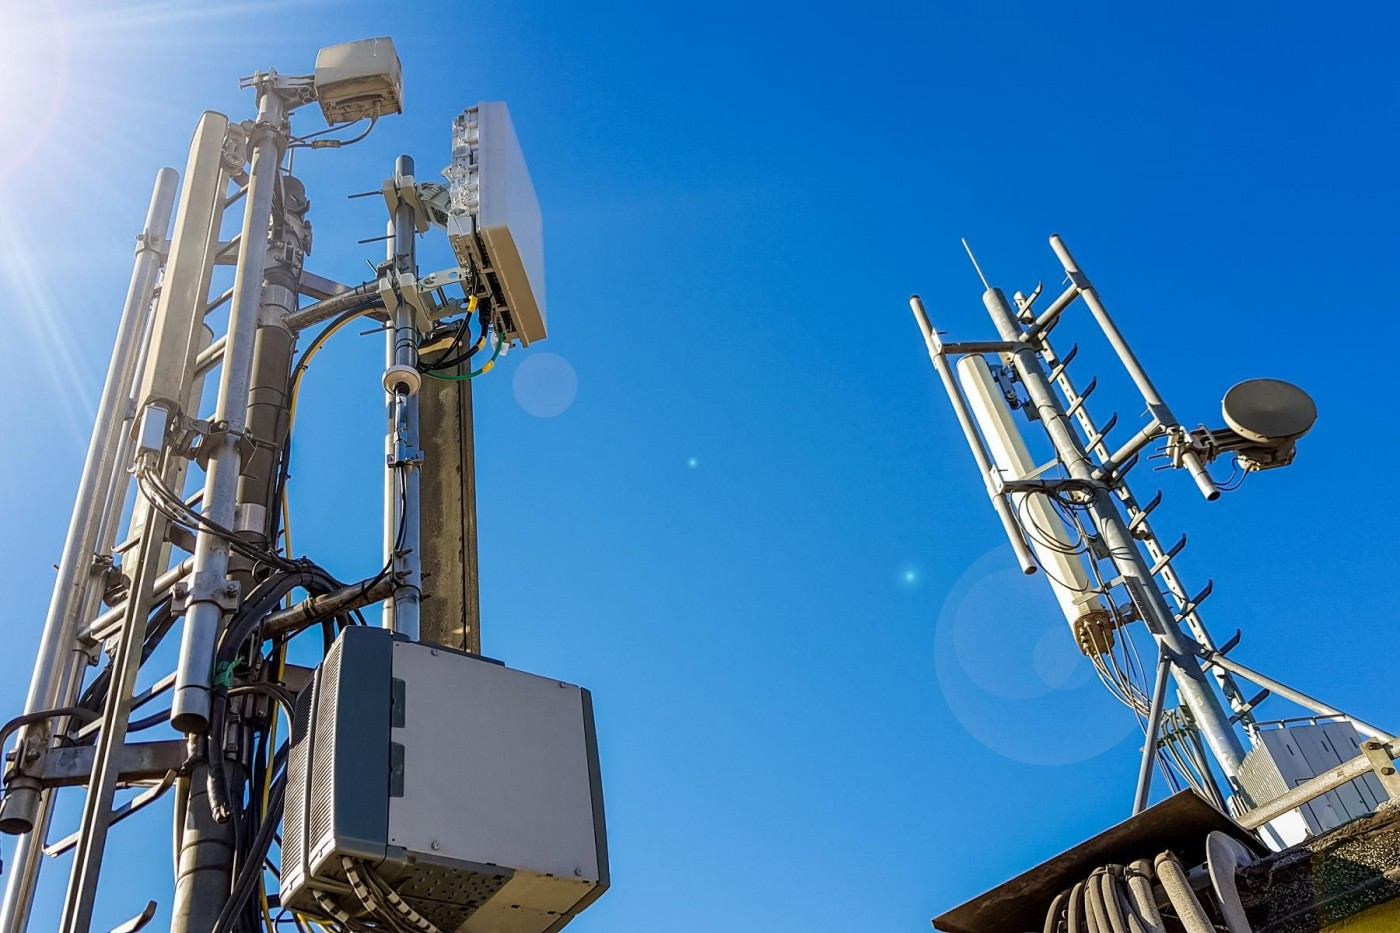a: (945, 343, 1127, 662), (142, 111, 227, 450)
b: (1218, 370, 1320, 459)
